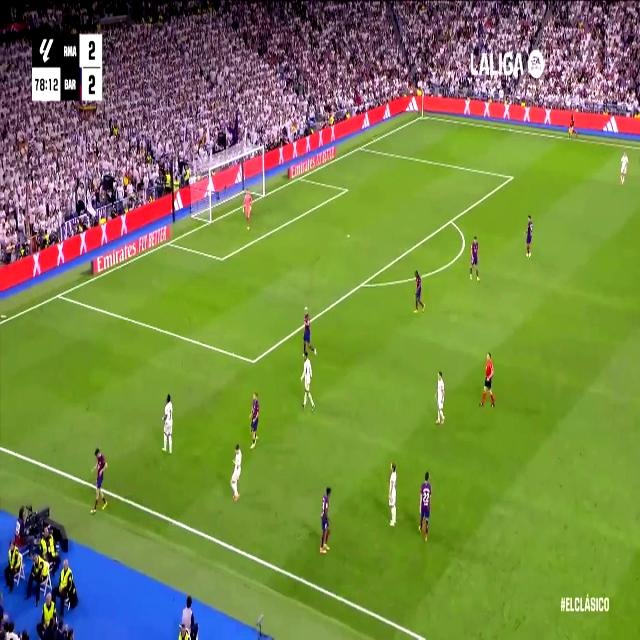bigarea_bottom_inner: (248, 349, 258, 372)
bigarea_top_inner: (508, 171, 514, 184)
bigarea_top_outter: (357, 142, 363, 152)
bottom_arc_area_intersection: (357, 274, 368, 293)
corner: (418, 110, 426, 120)
smallarea_bottom_inner: (218, 249, 226, 267)
smallarea_bottom_outter: (165, 236, 173, 248)
smallarea_top_inner: (344, 184, 348, 195)
top_arc_area_intersection: (447, 212, 455, 228)
